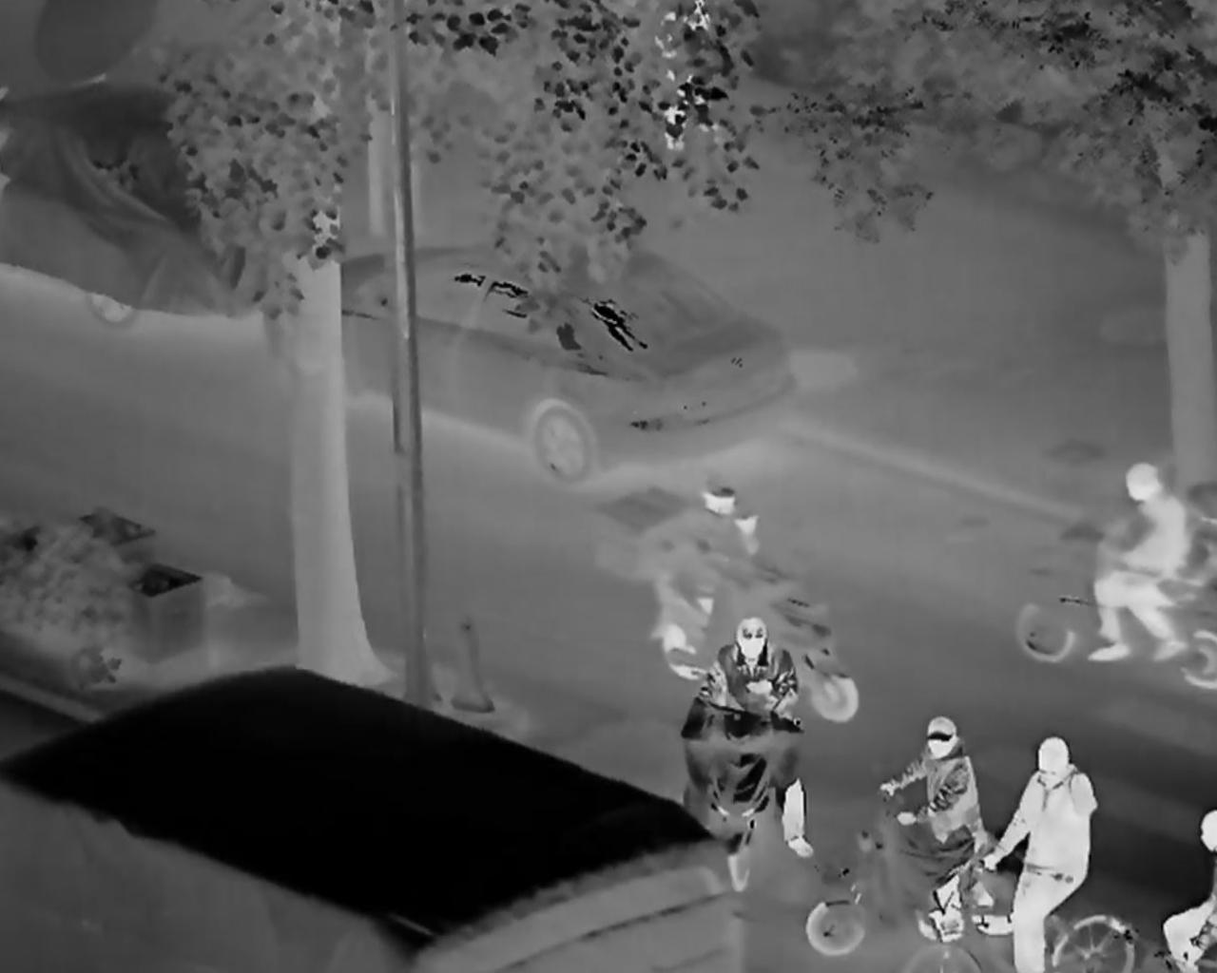person: (691, 608, 819, 877), (987, 721, 1096, 973), (881, 697, 994, 919), (1083, 460, 1187, 670), (648, 475, 760, 668)
